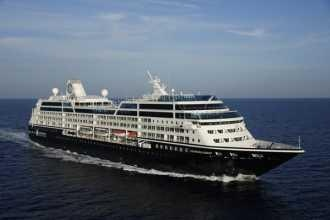youlun: (22, 76, 307, 181)
